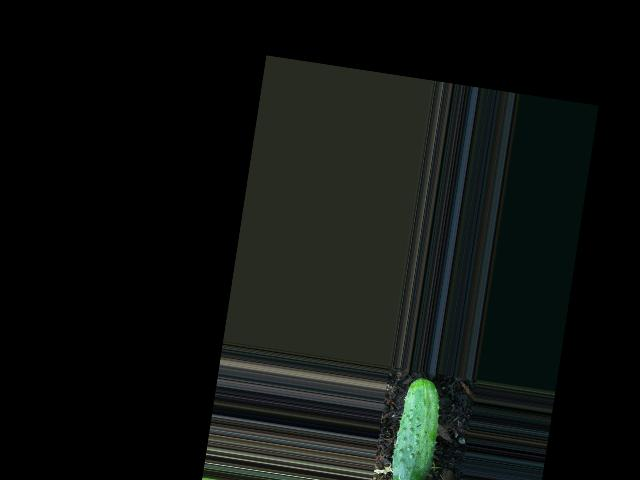cucumber: (388, 375, 445, 480)
